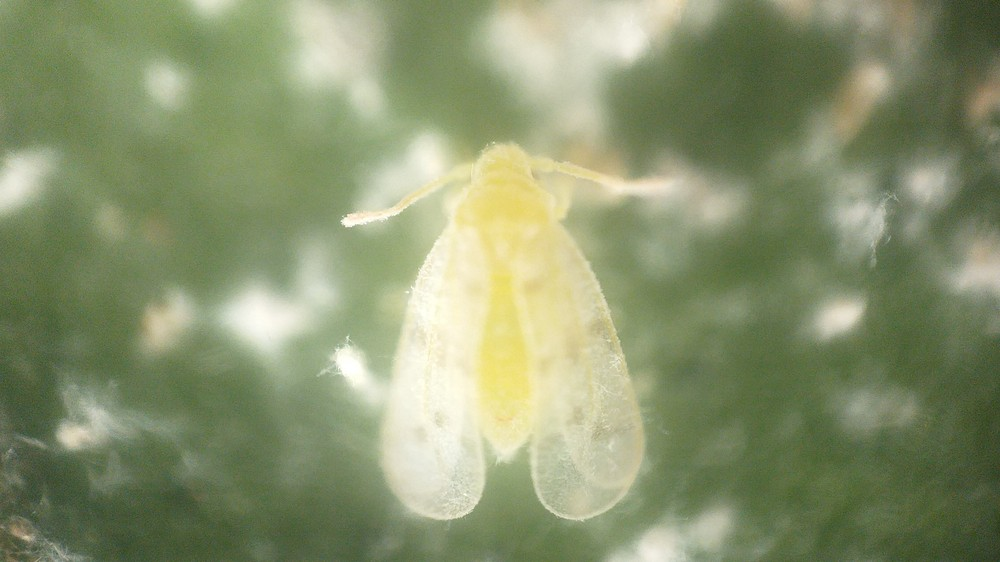Mosca Blanca: (321, 125, 695, 541)
